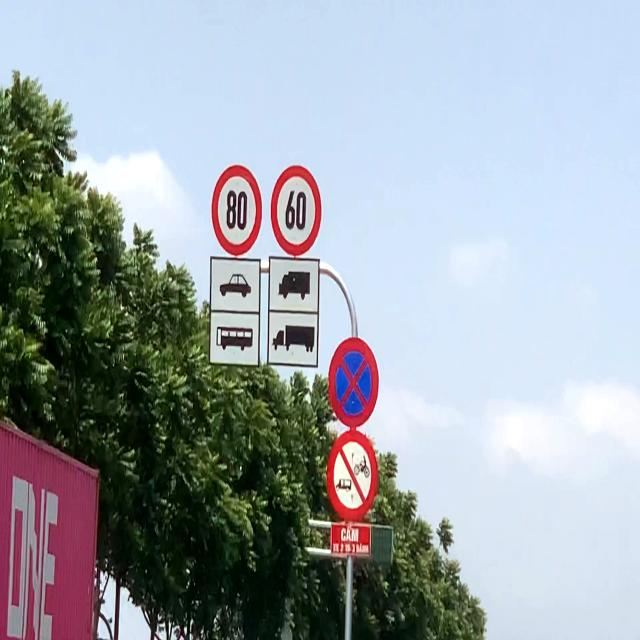P.127: (210, 162, 263, 257), (270, 162, 322, 255)
P.130: (326, 334, 381, 429)
